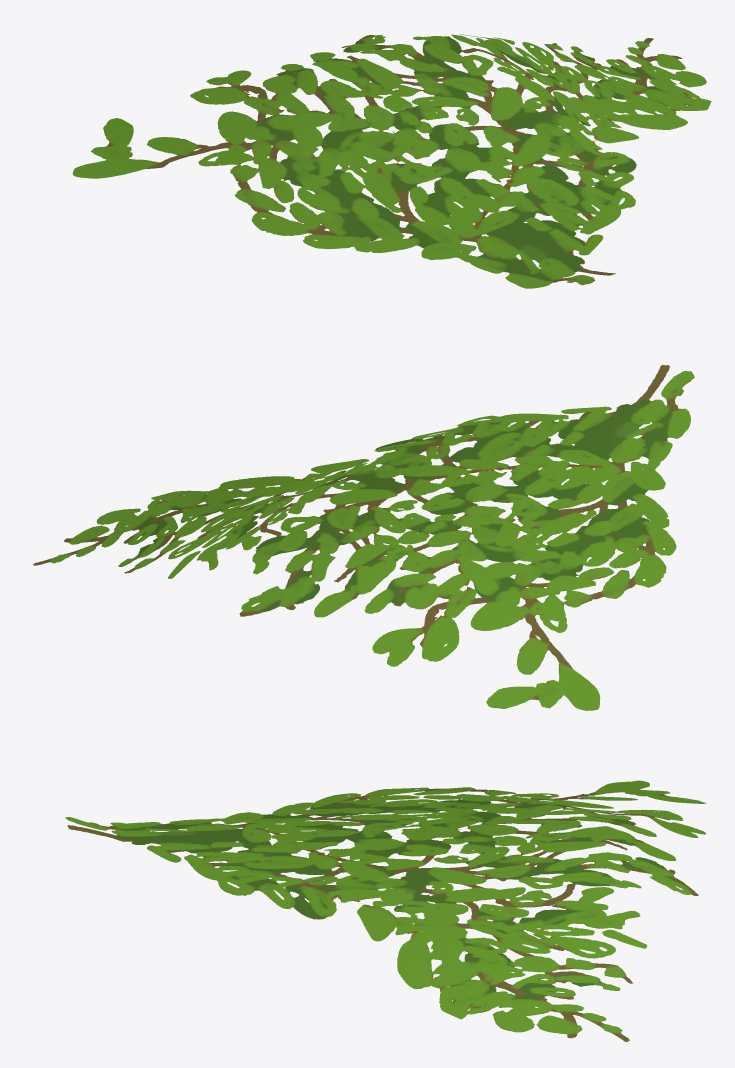
File: mesh_vine_1.fbx
3 views of the same model, one above another, from view 1: azimuth 30°, elevation 25°; view 2: azimuth 150°, elevation 25°; view 3: azimuth 270°, elevation 25° (orthographic). The views are drawn at different scales.
Visible parts, largest first — view 1: mesh_vine_1; view 2: mesh_vine_1; view 3: mesh_vine_1.
Boxes of the visible parts, x1=… form: mesh_vine_1: x1=73, y1=34, x2=711, y2=288; mesh_vine_1: x1=33, y1=365, x2=694, y2=710; mesh_vine_1: x1=65, y1=780, x2=706, y2=1041.
Size of the model in its own units: 44.71 by 5.86 by 47.71.
1 material, 1 textured.
